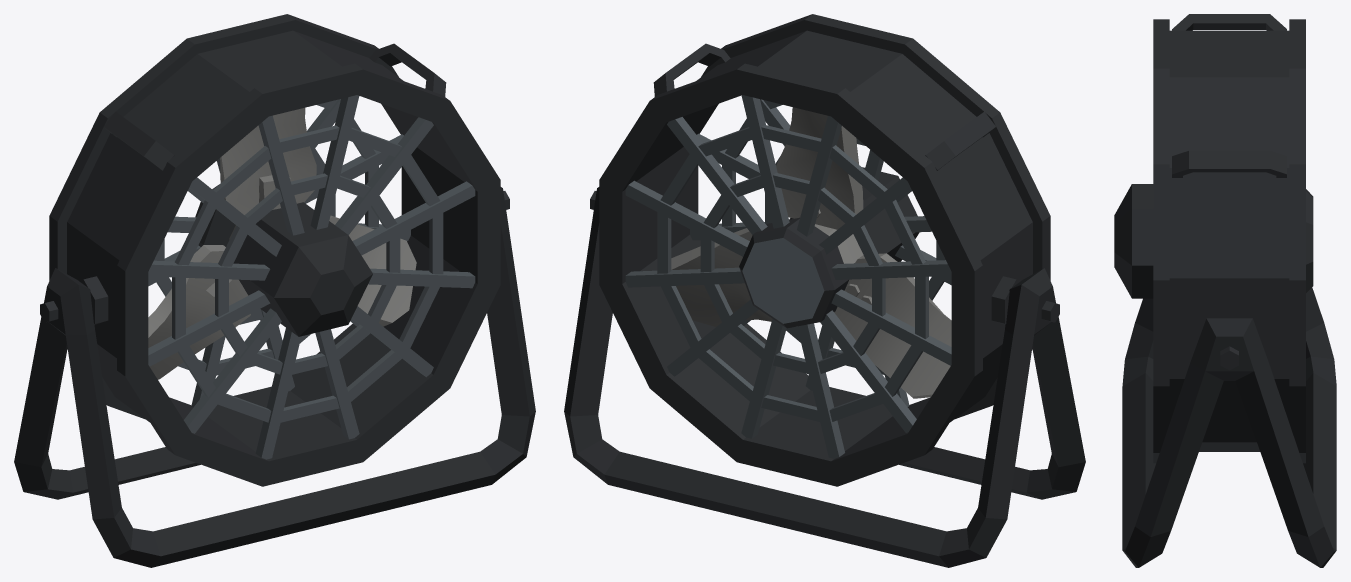
File: SM_Prop_Fan_02_Preset.fbx
3 renders of one model, left to right at view 1: azimuth 30°, elevation 25°; view 2: azimuth 150°, elevation 25°; view 3: azimuth 270°, elevation 25°, orthographic.
Visible parts, largest first — view 1: SM_Prop_Fan_02_Preset; view 2: SM_Prop_Fan_02_Preset; view 3: SM_Prop_Fan_02_Preset.
Boxes of the visible parts, x1,y1,x2,y2 form: SM_Prop_Fan_02_Preset: (14, 14, 535, 567); SM_Prop_Fan_02_Preset: (564, 14, 1085, 567); SM_Prop_Fan_02_Preset: (1114, 14, 1336, 567).
Bounding box in the file's own units: 94.96 × 86.37 × 39.55.
